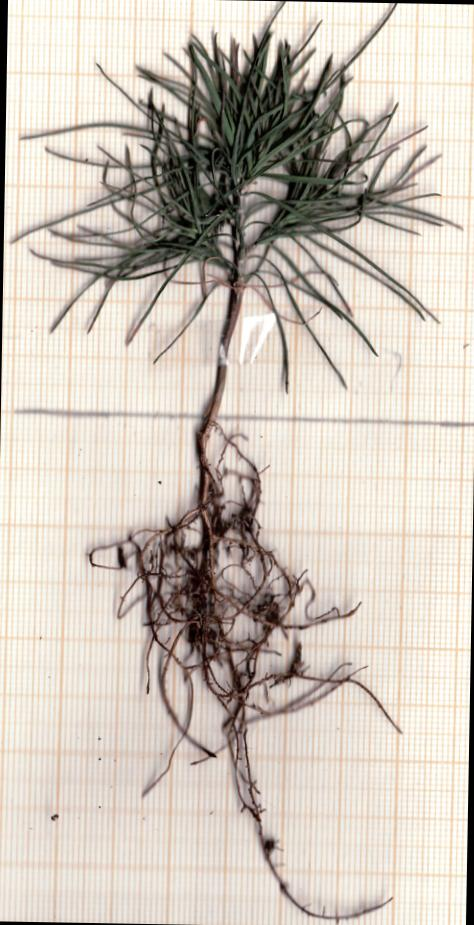flower: (12, 1, 460, 389)
root: (118, 422, 399, 919)
stem: (202, 286, 243, 433)
